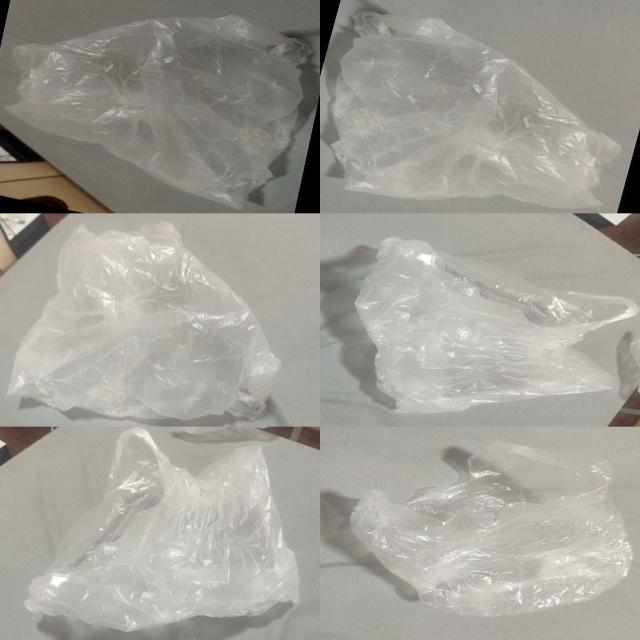Single-layer Plastic: (8, 15, 311, 208), (332, 11, 620, 208), (25, 428, 299, 631), (9, 222, 280, 420), (355, 238, 638, 413), (350, 441, 632, 616)
